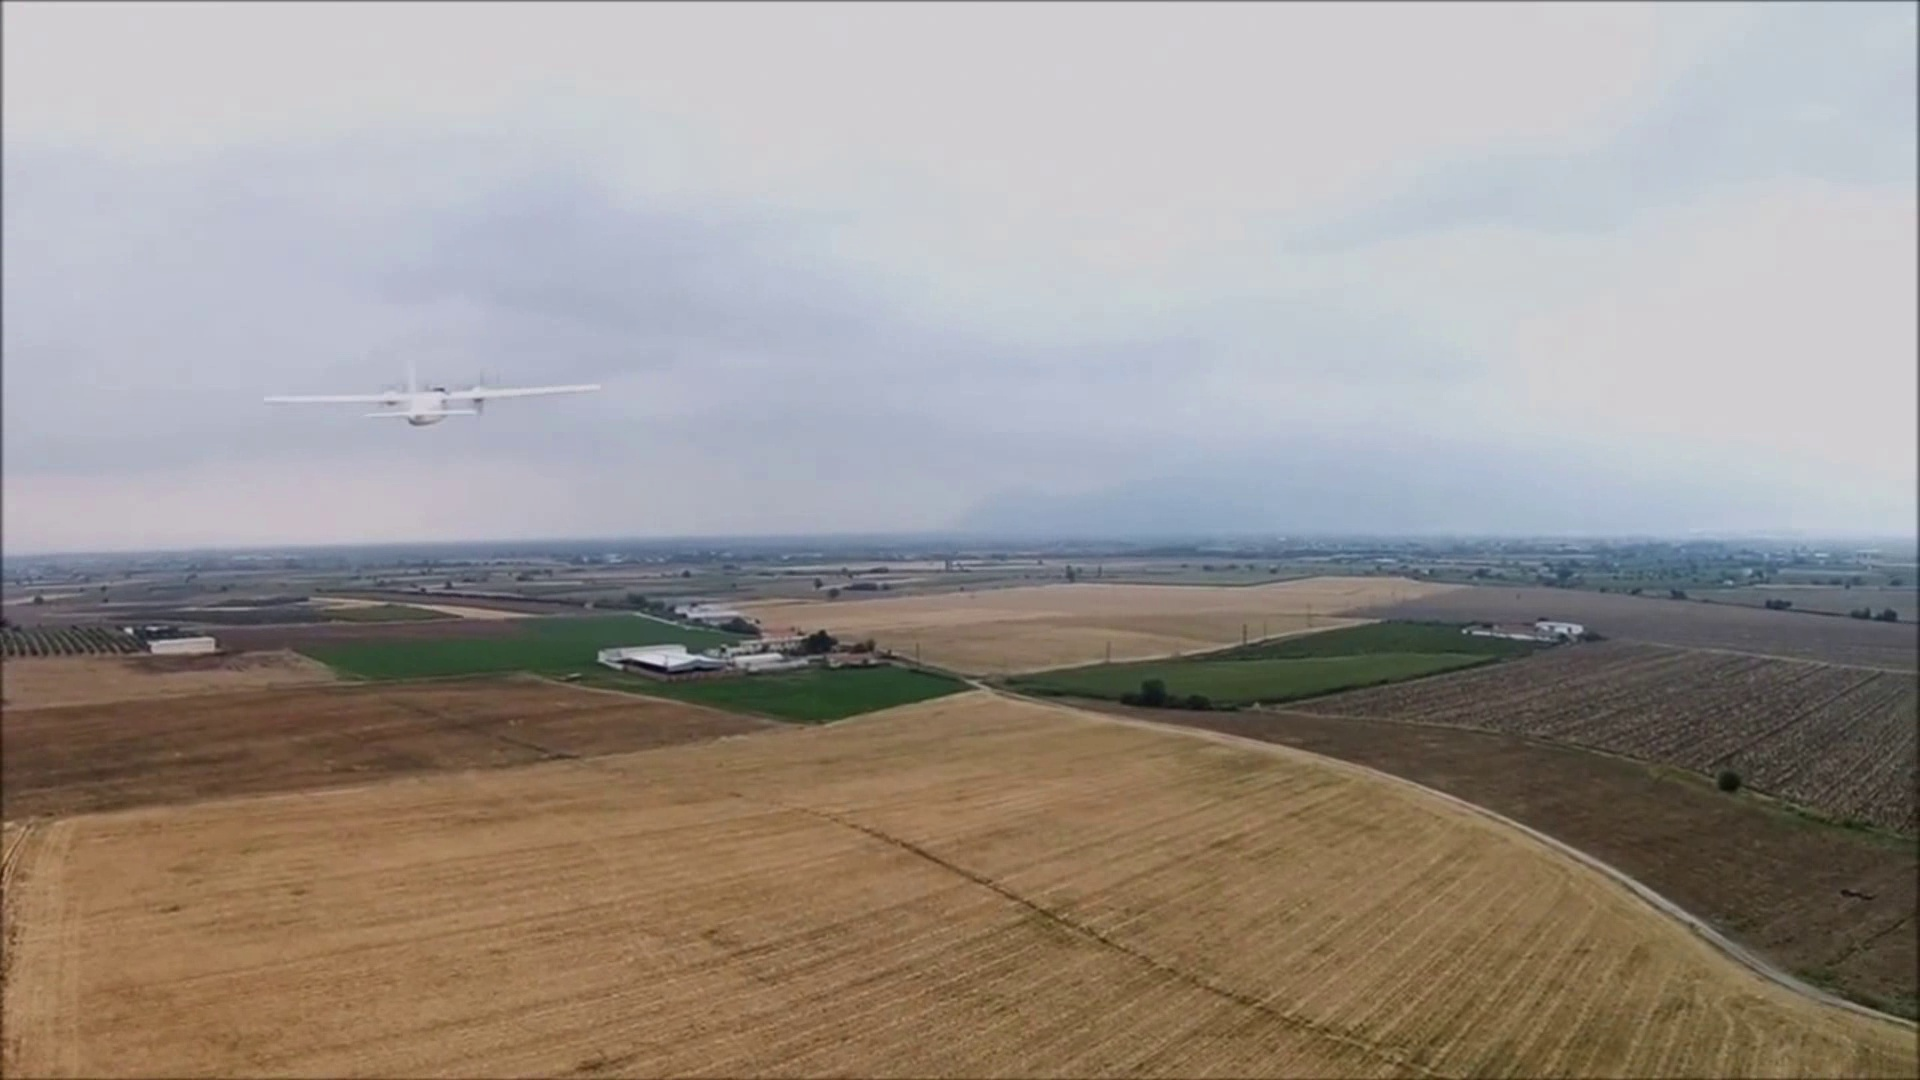airplane: (266, 375, 604, 425)
